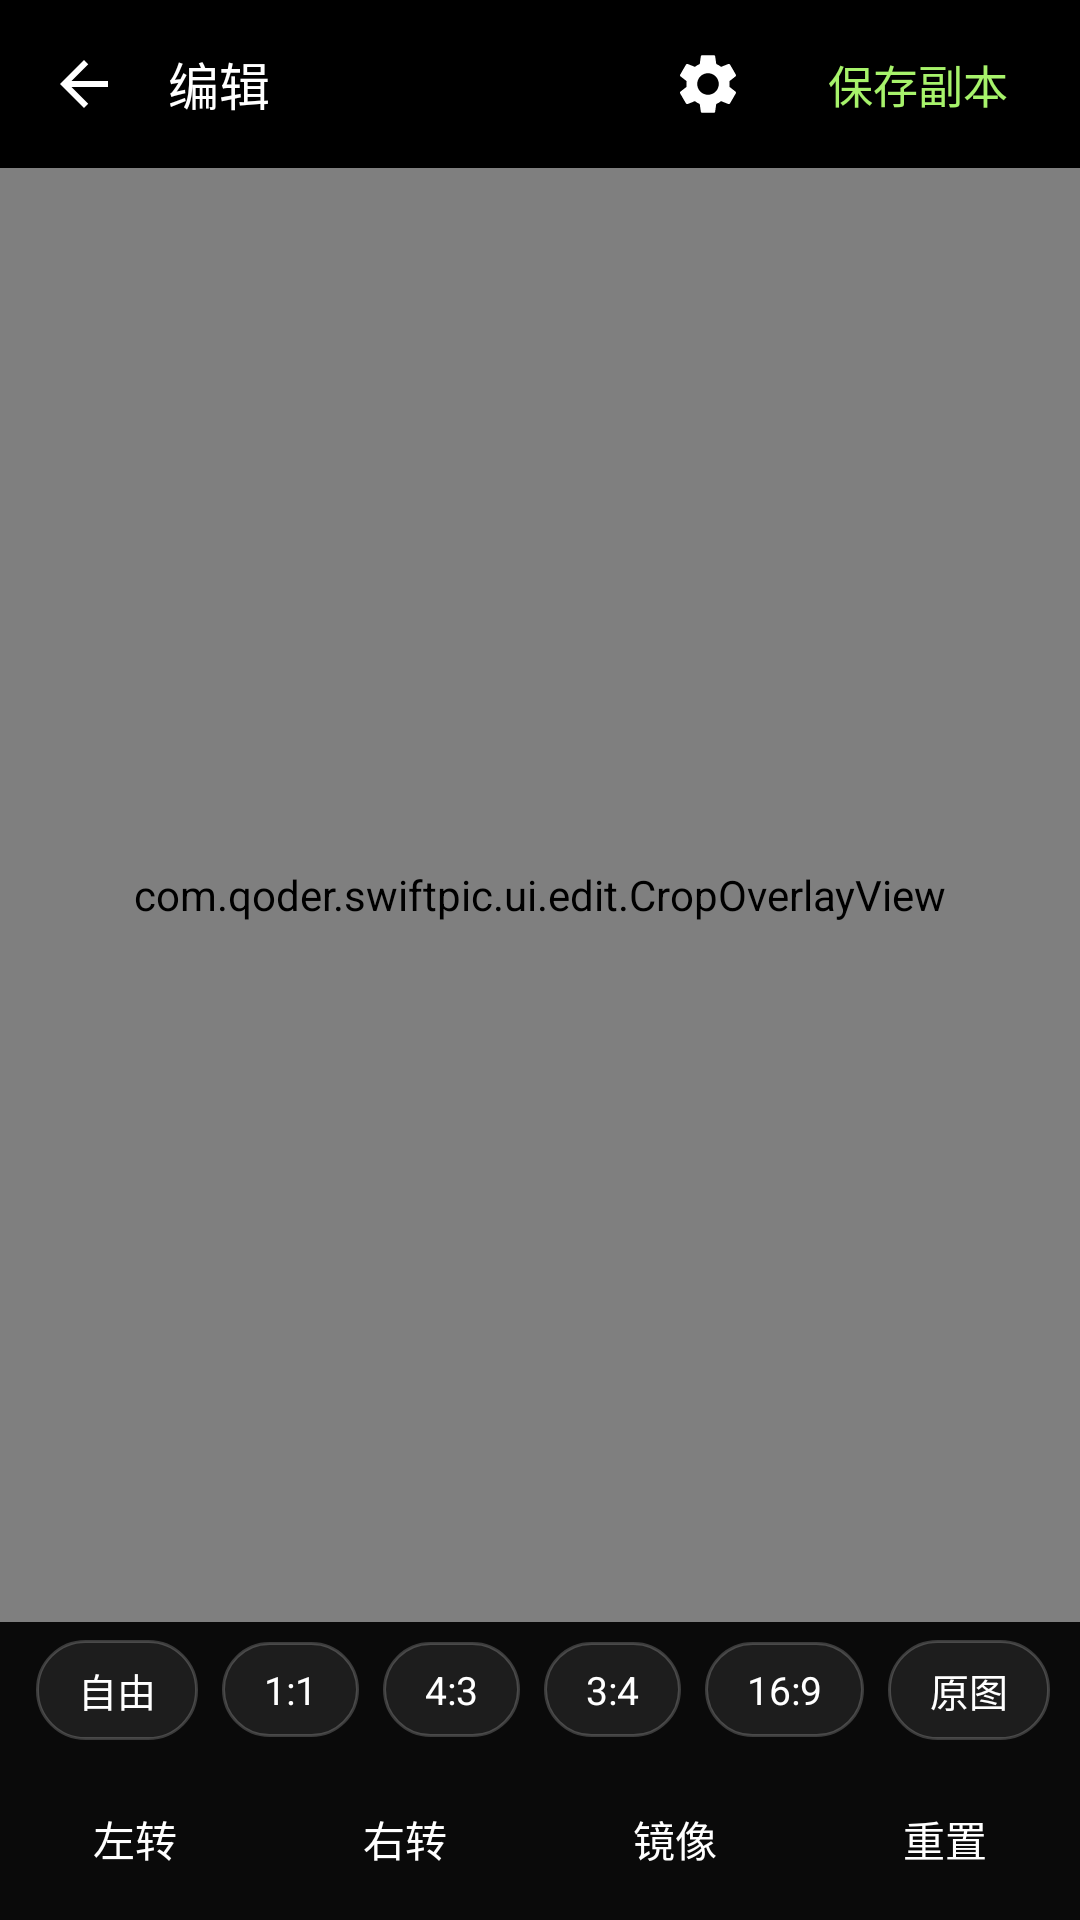

Icon click points for this 1080px×1920px phone screenshot, format (x=x, y=y):
设置: (x=708, y=84)
返回: (x=84, y=84)
